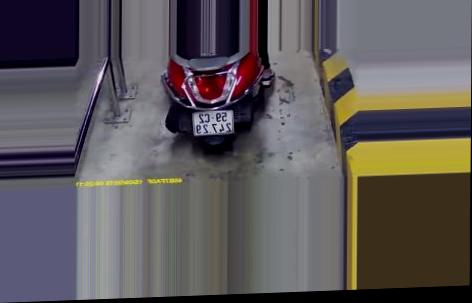License_Plate: (190, 106, 239, 140)
